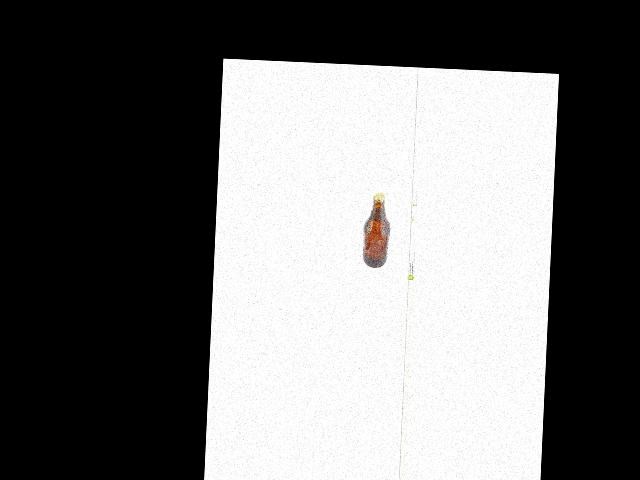beer: (362, 192, 392, 268)
